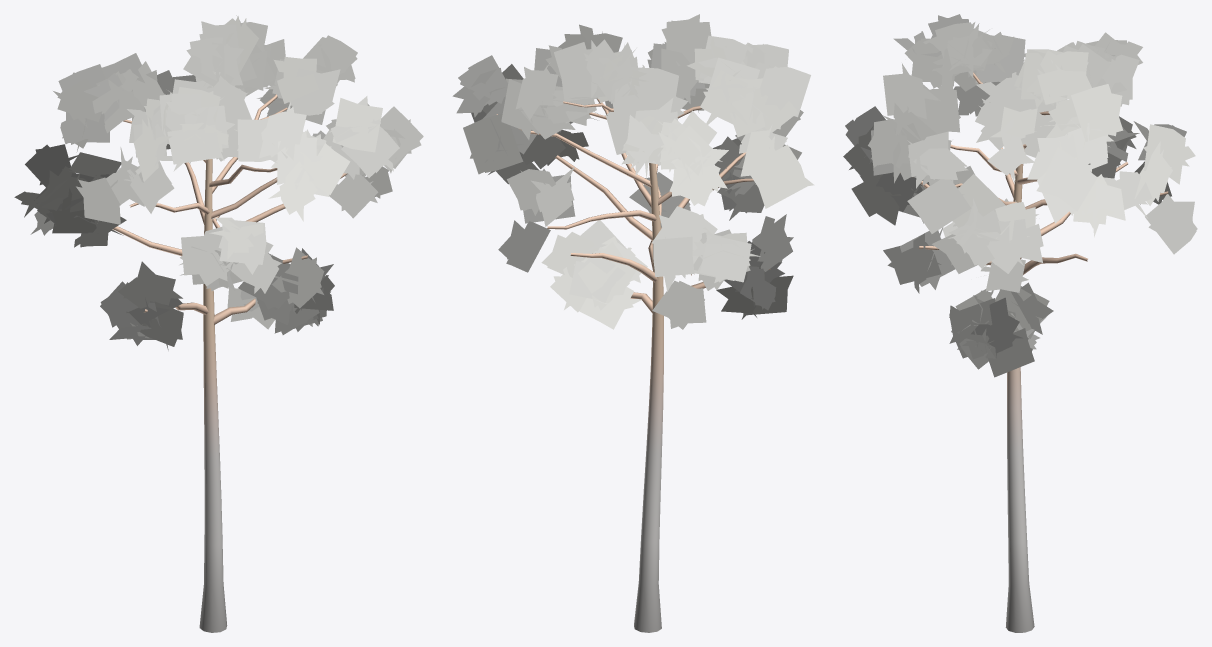
The model's file is pine_l0.glb.
The picture shows the model from 3 angles, left to right: view 1: azimuth 30°, elevation 25°; view 2: azimuth 150°, elevation 25°; view 3: azimuth 270°, elevation 25°; orthographic projection.
Parts seen in each view (by area): view 1: leaf, wood; view 2: leaf, wood; view 3: leaf, wood.
Boxes of the visible parts, x1,y1,x2,y2 form: leaf: (14, 15, 423, 350); wood: (112, 94, 347, 632); leaf: (452, 14, 814, 329); wood: (496, 98, 770, 632); leaf: (843, 14, 1197, 377); wood: (900, 72, 1168, 632).
Bounding box in the file's own units: 11.42 × 19.26 × 10.46.
